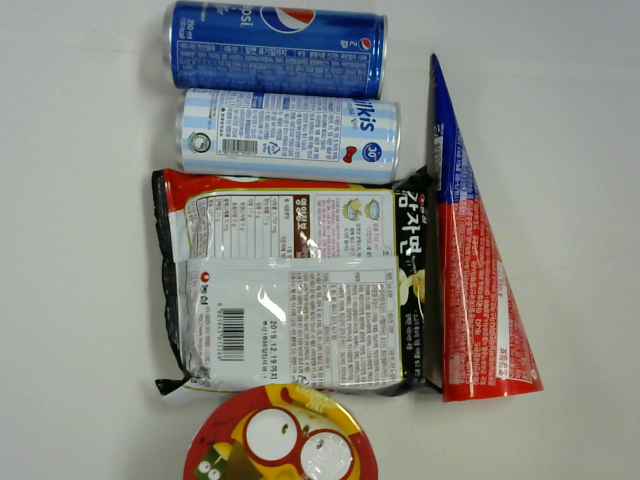Milkies_250ml: (180, 88, 402, 179)
Pepsi_Cola_Can_250ml: (161, 1, 396, 91)
Potato: (152, 172, 438, 401)
Raccoon: (181, 387, 374, 480)
World_Cone_Banila: (423, 51, 551, 410)
